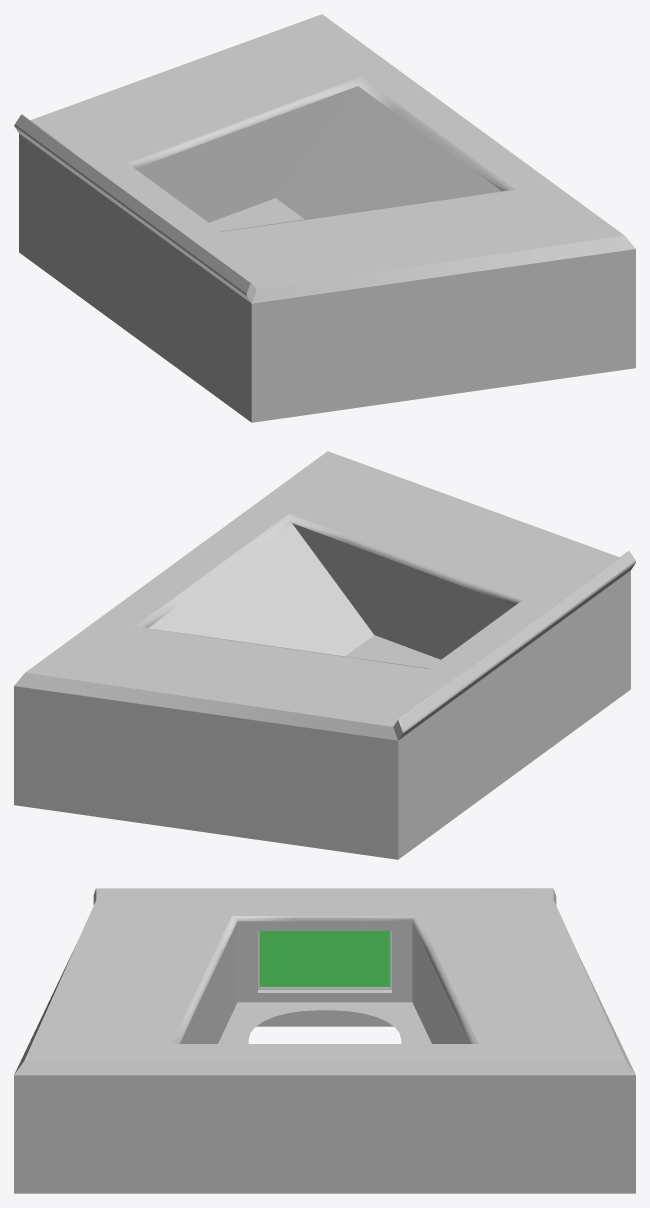
Rendered from Center.fbx.
The picture shows the model from 3 angles, top to bottom: view 1: azimuth 30°, elevation 25°; view 2: azimuth 150°, elevation 25°; view 3: azimuth 270°, elevation 25°; orthographic projection.
Visible parts, largest first — view 1: Plane.008; view 2: Plane.008; view 3: Plane.008.
Part boxes in pixels (box(x1,y1,x2,y2)): Plane.008: box(14, 14, 635, 422); Plane.008: box(14, 451, 635, 859); Plane.008: box(14, 888, 635, 1193).
Size of the model in its own units: 142925 by 54380 by 221716.
